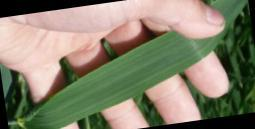Wheat: (94, 48, 163, 105)
